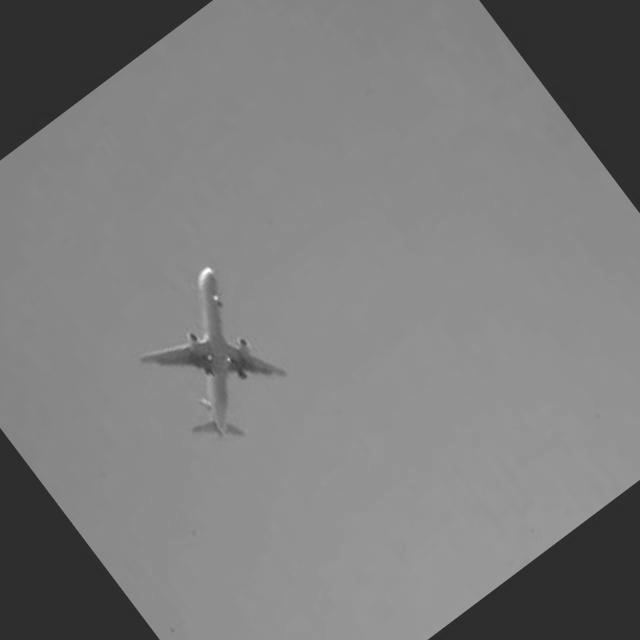aeroplane: (118, 264, 306, 460)
